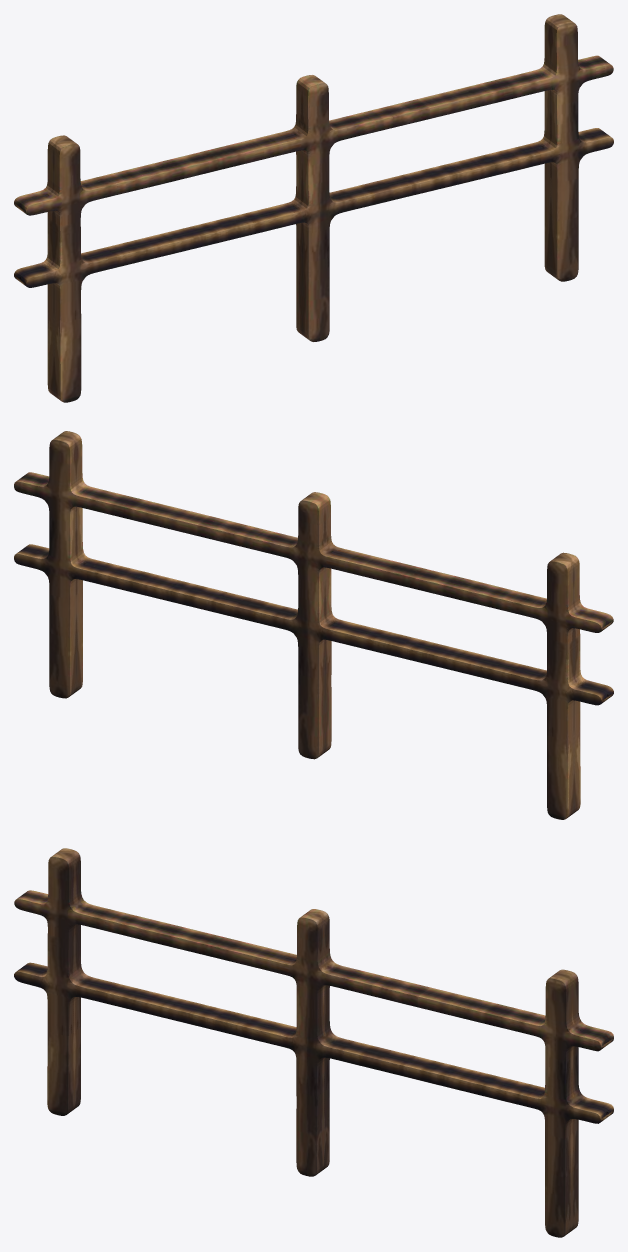
The model's file is bridge_rail.glb.
3 views of the same model, one above another, from view 1: azimuth 30°, elevation 25°; view 2: azimuth 150°, elevation 25°; view 3: azimuth 330°, elevation 25° (orthographic).
Visible parts, largest first — view 1: geometry_0; view 2: geometry_0; view 3: geometry_0.
Boxes of the visible parts, x1=… form: geometry_0: x1=14, y1=14, x2=613, y2=402; geometry_0: x1=14, y1=431, x2=613, y2=819; geometry_0: x1=14, y1=848, x2=613, y2=1237.
Size of the model in its own units: 6.38 by 2.66 by 0.261.
1 material, 1 textured.
